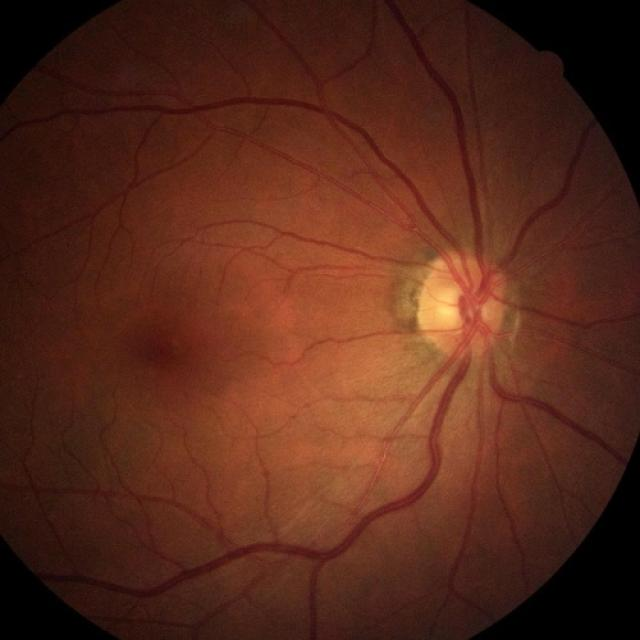OC: (436, 289, 465, 322)
OD: (415, 250, 507, 355)
